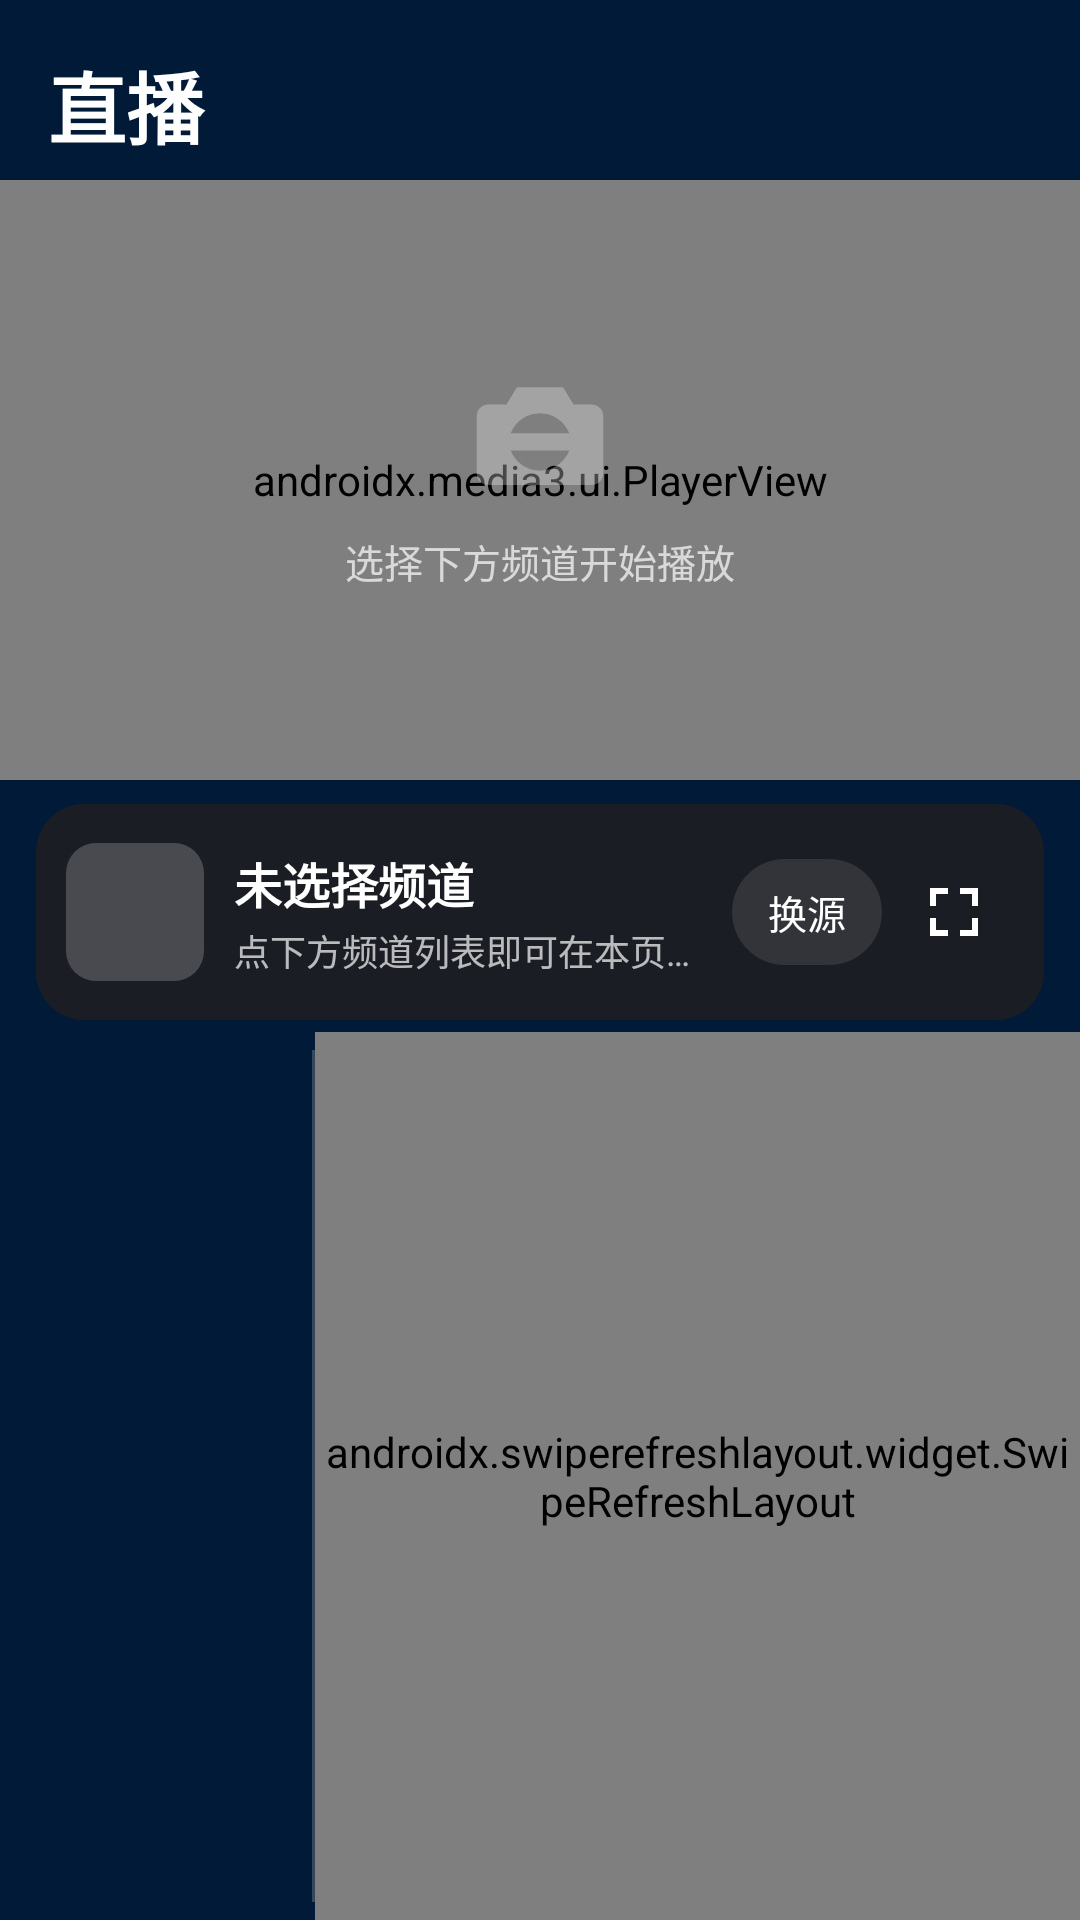

Named icons in this screenshot (1080 x 1920) and their centers, (x=x, y=y):
全屏: (x=954, y=912)
